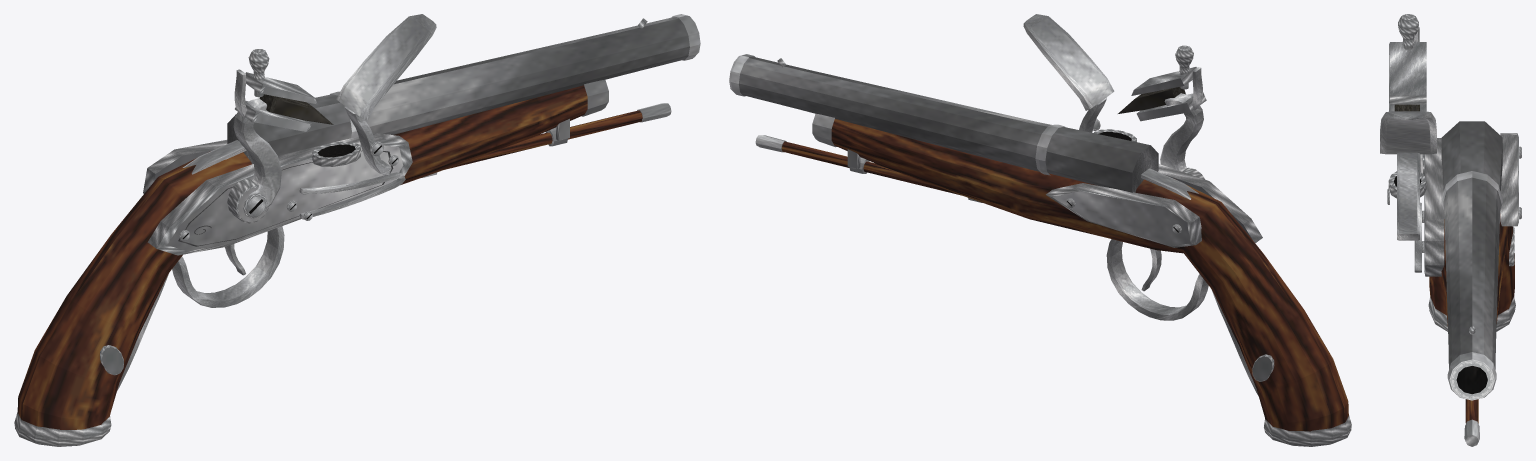
File: Pistola_Pederneira.glb
3 renders of one model, left to right at view 1: azimuth 30°, elevation 25°; view 2: azimuth 150°, elevation 25°; view 3: azimuth 270°, elevation 25°, orthographic. The views are drawn at different scales.
Visible parts, largest first — view 1: Coronha de madeira, Cano de aço, Platina da fechadura, Bateria aberta, Culatra octogonal, Guarda-mato, Pescoço do cão, Vareta de carga, Ponteira da coronha, Mola da bateria, Contraplatina, Pedra de pederneira (+6 smaller); view 2: Coronha de madeira, Cano de aço, Contraplatina, Culatra octogonal, Bateria aberta, Guarda-mato, Pescoço do cão, Vareta de carga, Platina da fechadura, Ponteira da coronha, Mandíbula superior, Pedra de pederneira (+2 smaller); view 3: Cano de aço, Culatra octogonal, Platina da fechadura, Bateria aberta, Mandíbula superior, Braço da bateria, Coronha de madeira, Contraplatina, Boca do cano, Interior do cano, Ponteira da coronha, Cabeça torneada do cão (+7 smaller).
Part boxes in pixels (bbox=[...]): Coronha de madeira: bbox=[17, 85, 587, 429]; Cano de aço: bbox=[365, 16, 689, 134]; Platina da fechadura: bbox=[147, 133, 412, 255]; Bateria aberta: bbox=[336, 14, 436, 120]; Culatra octogonal: bbox=[227, 94, 351, 164]; Guarda-mato: bbox=[172, 226, 284, 307]; Pescoço do cão: bbox=[233, 98, 281, 208]; Vareta de carga: bbox=[445, 110, 642, 169]; Ponteira da coronha: bbox=[14, 412, 111, 446]; Mola da bateria: bbox=[299, 172, 405, 219]; Contraplatina: bbox=[143, 140, 227, 193]; Pedra de pederneira: bbox=[259, 94, 333, 124]; Coronha de madeira: bbox=[831, 119, 1348, 431]; Cano de aço: bbox=[739, 56, 1051, 171]; Contraplatina: bbox=[1046, 183, 1201, 247]; Culatra octogonal: bbox=[1045, 127, 1158, 192]; Bateria aberta: bbox=[1023, 14, 1114, 110]; Guarda-mato: bbox=[1106, 239, 1208, 320]; Pescoço do cão: bbox=[1160, 93, 1203, 171]; Vareta de carga: bbox=[781, 141, 960, 195]; Platina da fechadura: bbox=[1158, 164, 1262, 243]; Ponteira da coronha: bbox=[1264, 415, 1351, 446]; Mandíbula superior: bbox=[1131, 67, 1196, 95]; Pedra de pederneira: bbox=[1118, 87, 1185, 113]; Cano de aço: bbox=[1443, 177, 1500, 369]; Culatra octogonal: bbox=[1441, 121, 1502, 196]; Platina da fechadura: bbox=[1424, 138, 1444, 276]; Bateria aberta: bbox=[1380, 111, 1436, 154]; Mandíbula superior: bbox=[1389, 42, 1426, 104]; Braço da bateria: bbox=[1397, 152, 1419, 240]; Coronha de madeira: bbox=[1429, 213, 1514, 325]; Contraplatina: bbox=[1500, 133, 1518, 226]; Boca do cano: bbox=[1447, 352, 1496, 400]; Interior do cano: bbox=[1456, 366, 1487, 394]; Ponteira da coronha: bbox=[1428, 296, 1515, 331]; Cabeça torneada do cão: bbox=[1398, 14, 1418, 46].
Bounding box in the file's own units: 0.4687 × 0.245 × 0.0812.
Materials: 6 (6 with a texture image).
